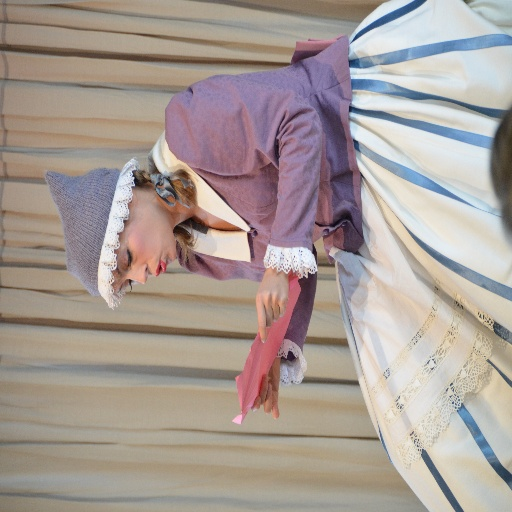hand: (249, 257, 289, 343), (250, 354, 280, 419)
